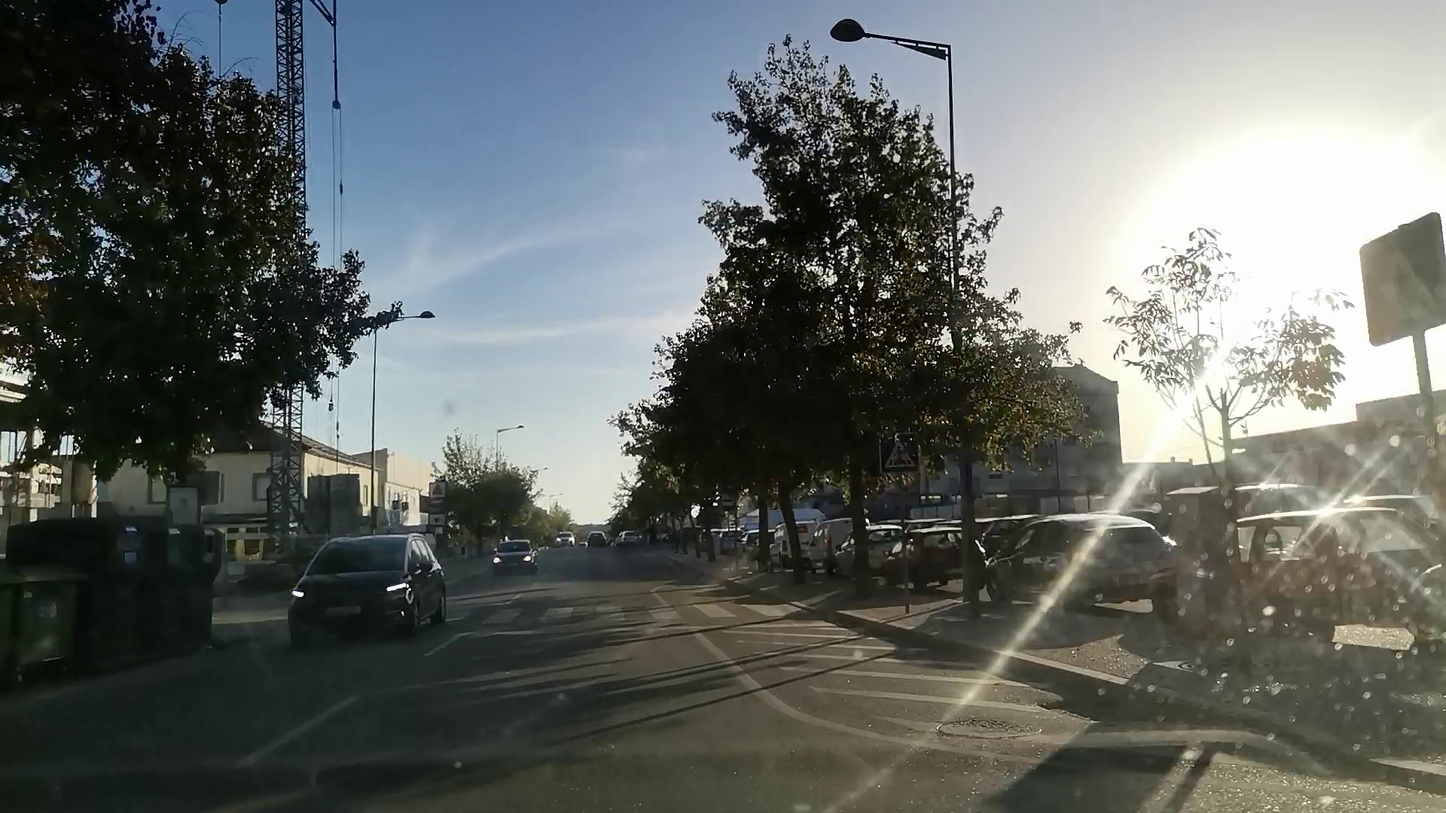Stairs: (438, 594, 814, 634)
